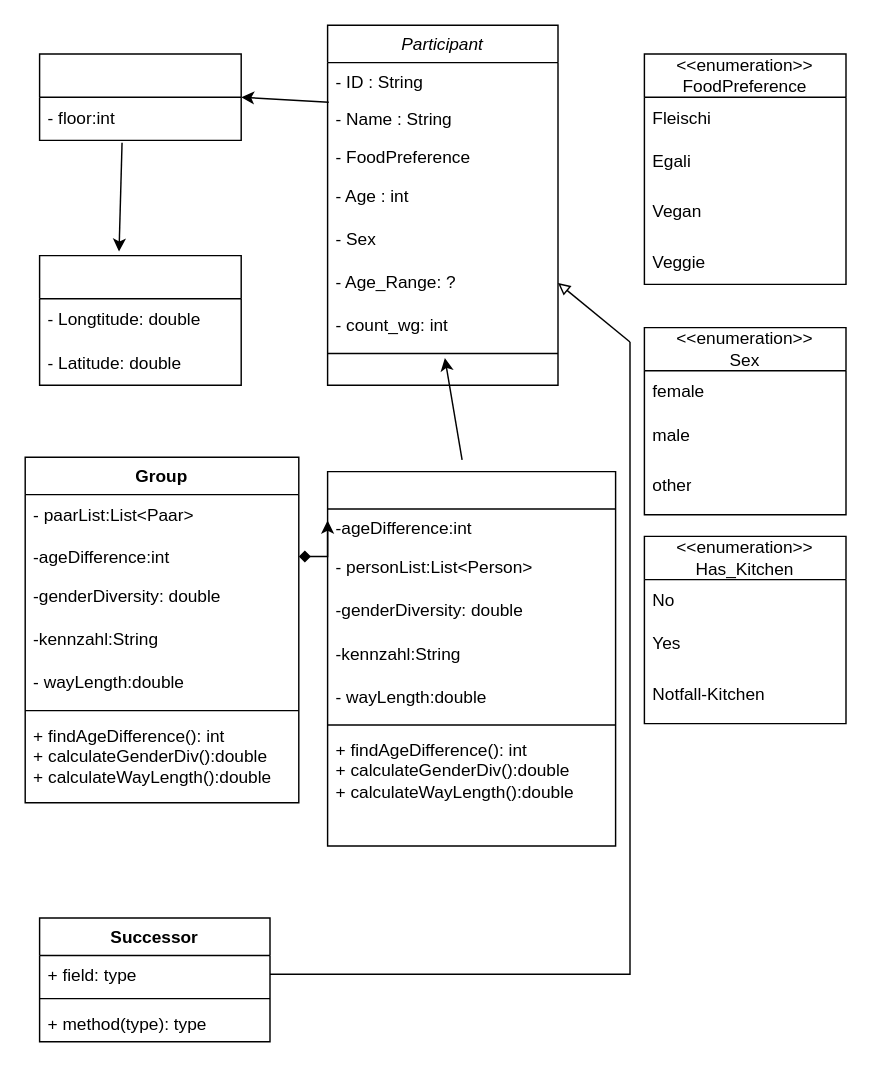
Some shapes in this 871 by 1071 pixel diagram are drawn without their labels. The shapes that lost their labels are listed below. From the top down, each one's box as (x1, y1, x2, y2) in pixels, then its label:
(38, 53, 241, 140): Kitchen
(38, 254, 241, 385): Location
(326, 470, 616, 846): Paar
